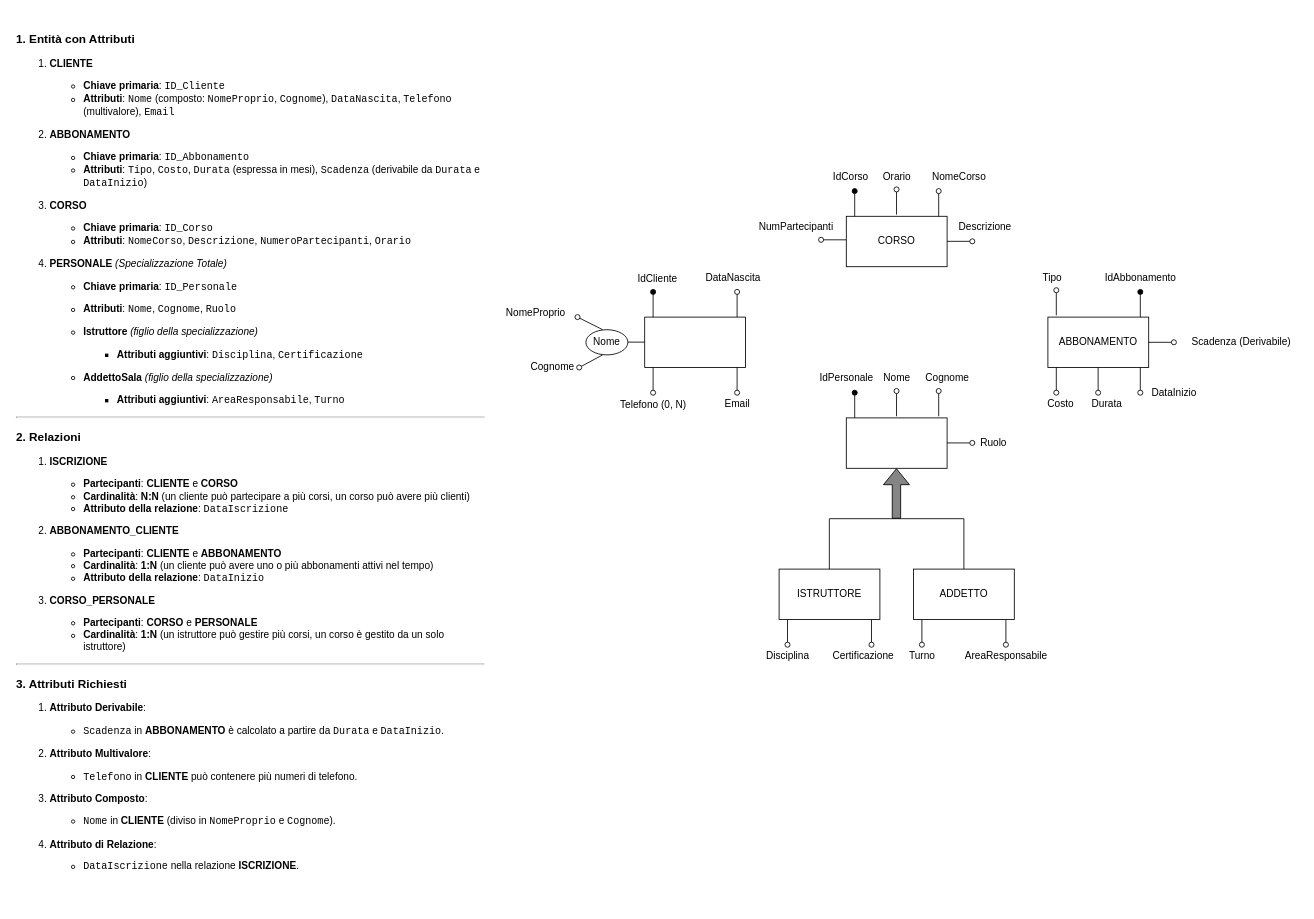
Image size: 1314x919. Some labels were removed from this diagram. Here are the shapes that lost their labels. From the top down, the centre of each, then its label:
At point (695, 342): "CLIENTE".
At point (896, 442): "PERSONALE".
